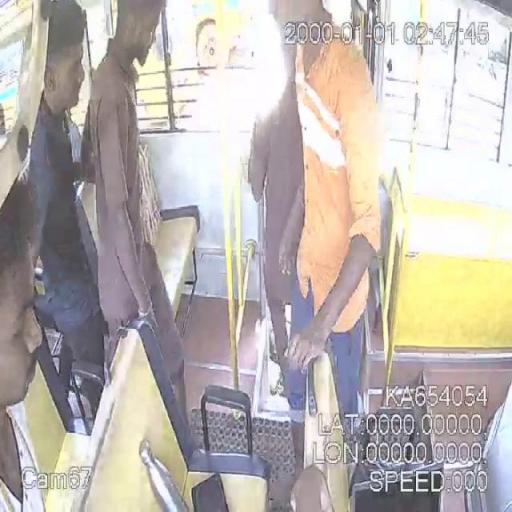persona: (248, 2, 384, 427), (78, 1, 192, 437), (22, 0, 110, 430), (0, 174, 47, 511)
